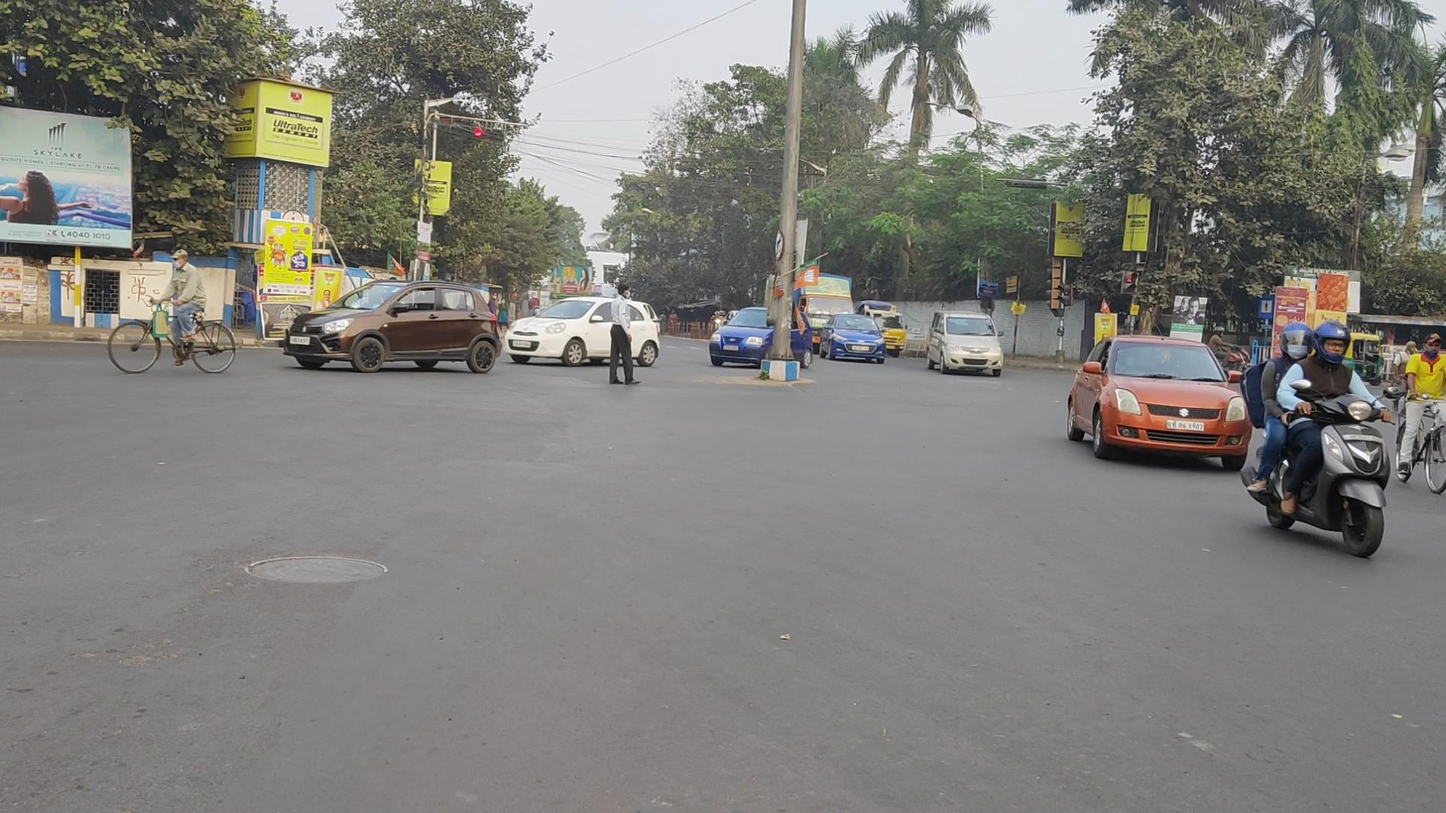bike: (1240, 321, 1402, 557), (107, 249, 236, 373), (1394, 334, 1446, 494)
car: (1067, 333, 1252, 472), (283, 279, 502, 374), (504, 296, 660, 367), (709, 306, 813, 369), (926, 312, 1003, 377), (819, 314, 886, 364)
truck: (764, 271, 855, 355)
van: (856, 300, 908, 358)
